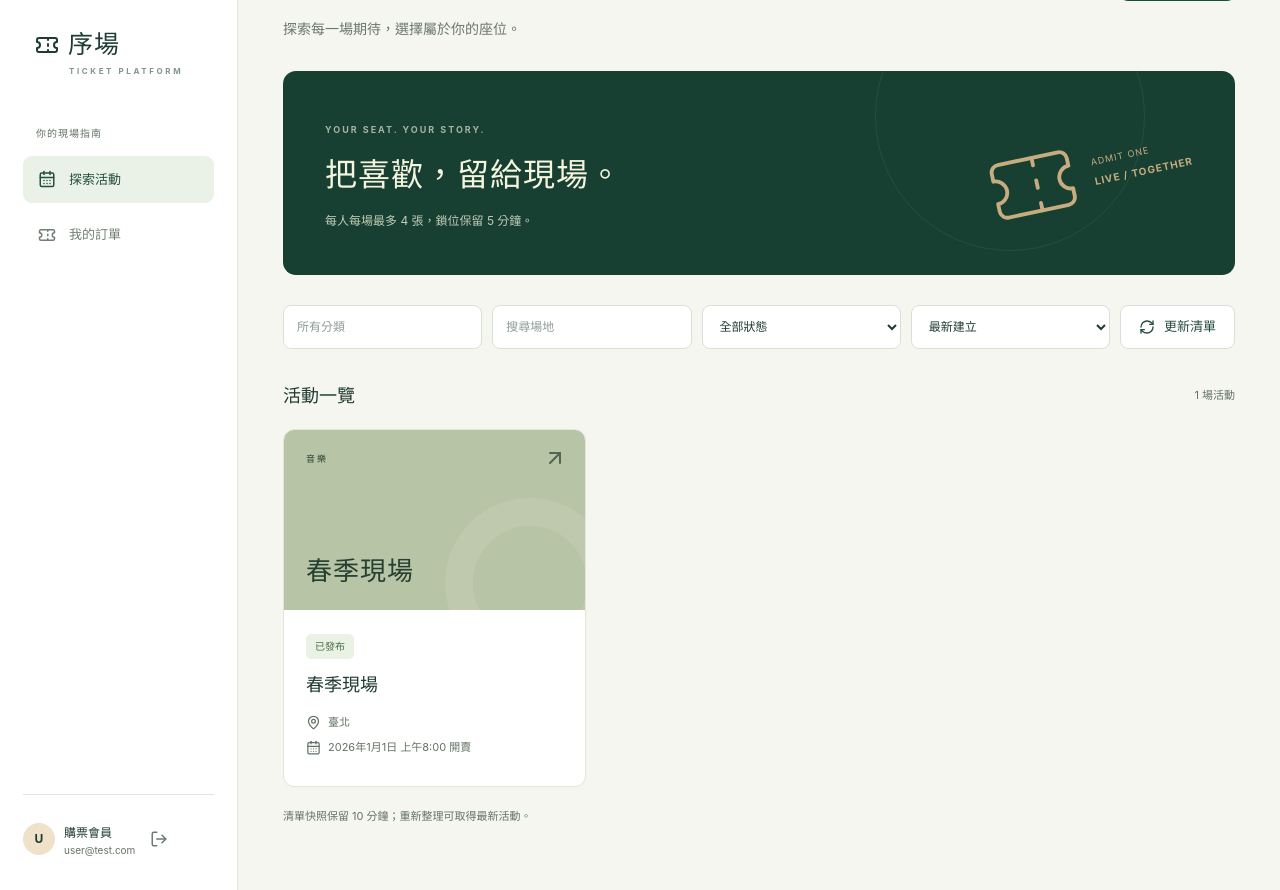
購票平台公開介面 › 即時連線尚未確認時不允許選位
The image size is (1280, 890).
(page scrolled)
What coordinates should you click on to do the following:
click the button "春季現場"
I would click on:
 (434, 608)
Its box is [283,429,586,787].
(page scrolled)
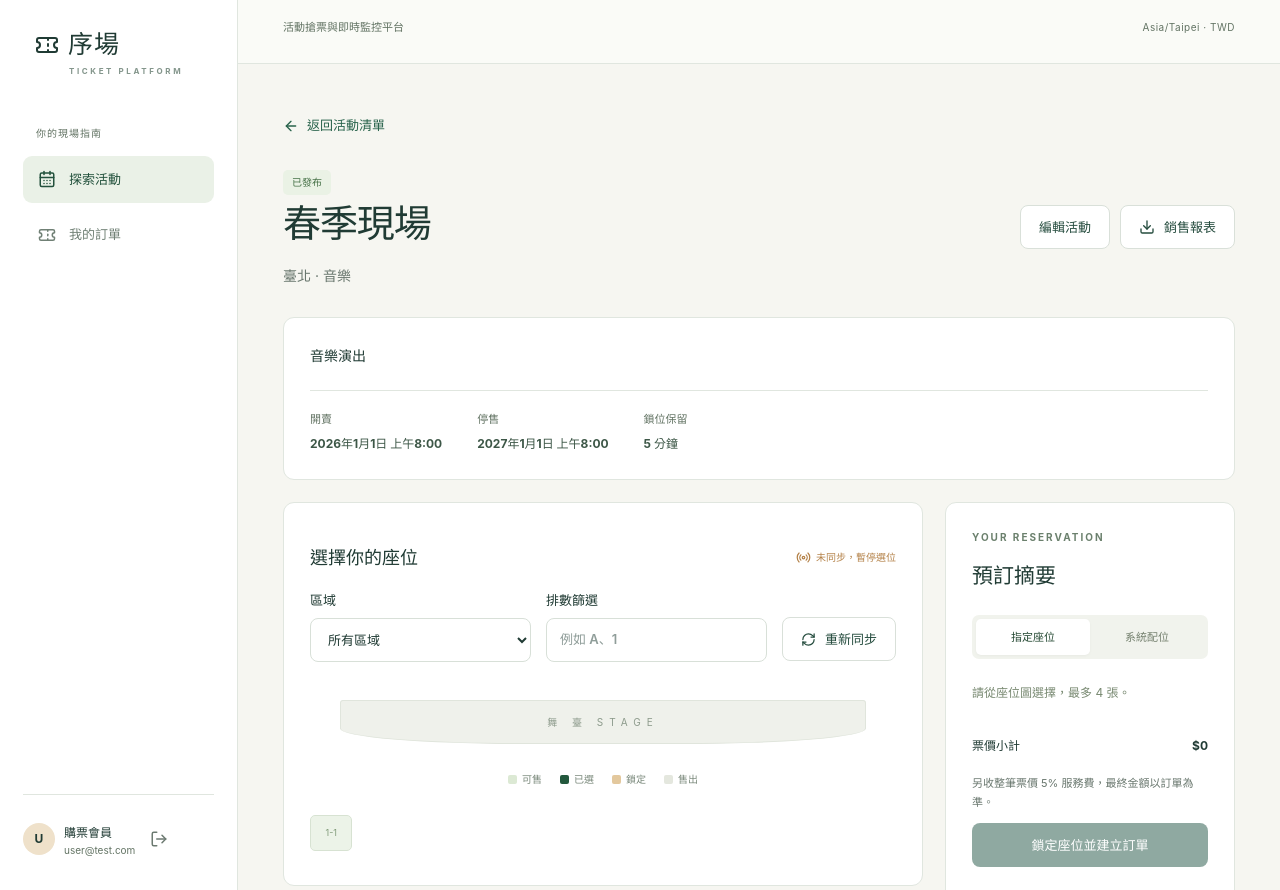
Expected: the text "未同步，暫停選位" is shown, [796,550,896,565]
Expected: the button named "1 排 1 號，可售" is disabled, [310,815,352,851]
